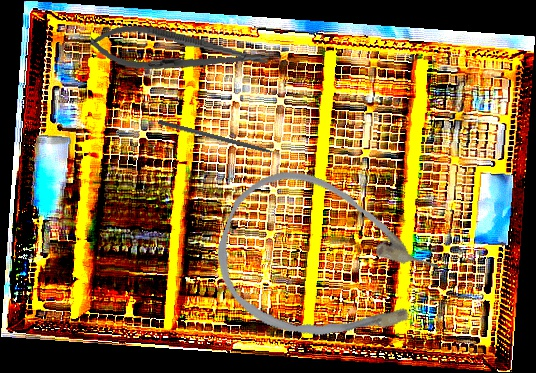Cannula: (198, 154, 454, 373)
Hook Surgical: (157, 119, 289, 161)
Needle Holder: (88, 19, 271, 84)
